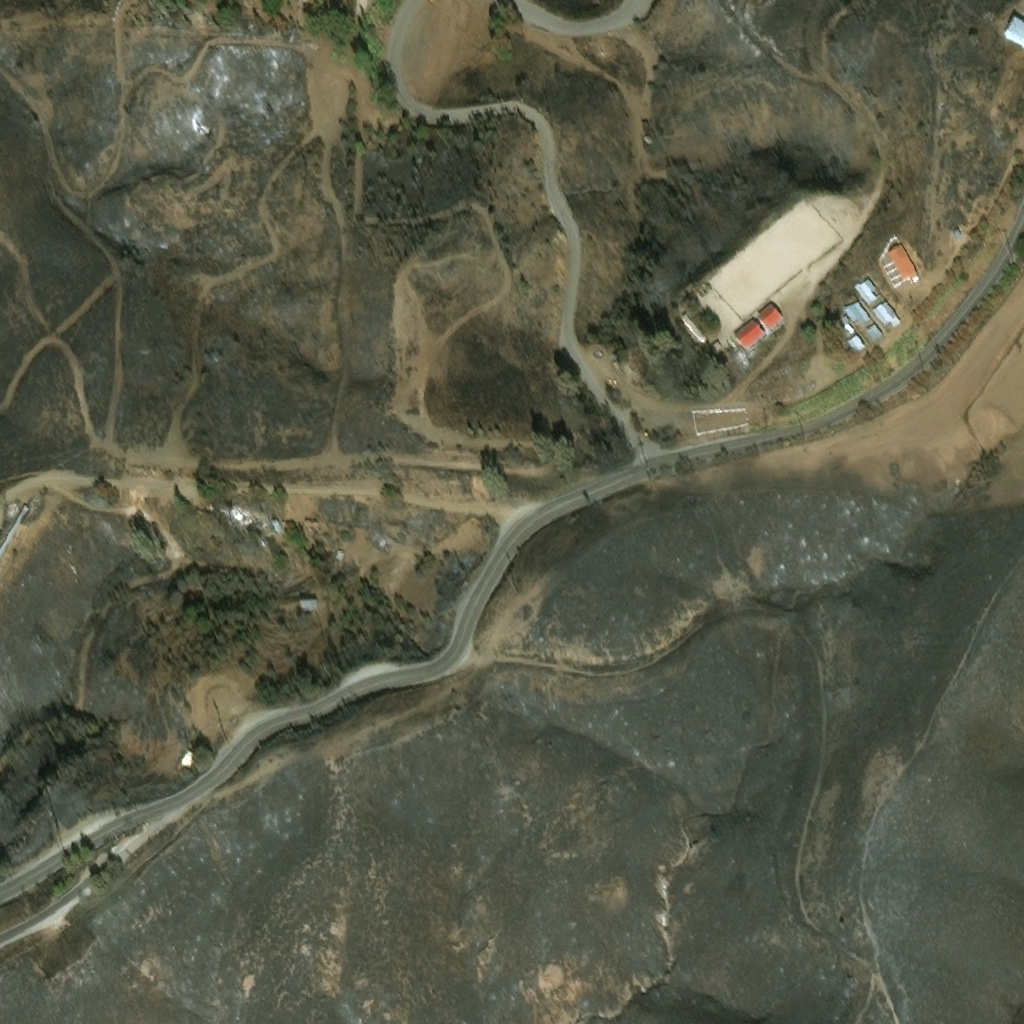0 no-damage: (887, 242, 919, 283), (682, 314, 717, 347), (734, 316, 764, 347), (871, 300, 902, 329), (754, 298, 782, 326), (852, 273, 880, 301), (845, 298, 870, 326), (1003, 13, 1023, 43), (847, 336, 867, 355), (864, 324, 883, 342), (838, 322, 854, 340), (297, 592, 313, 601), (330, 542, 340, 552), (839, 315, 849, 325)
2 major-damage: (271, 519, 278, 526)
3 destroyed: (0, 509, 30, 566), (226, 501, 268, 529), (178, 744, 190, 759), (31, 498, 45, 510), (28, 505, 40, 517), (302, 518, 310, 531), (310, 518, 317, 531), (10, 503, 19, 513), (638, 116, 646, 126), (11, 497, 19, 505), (180, 475, 189, 482), (281, 518, 290, 525), (202, 15, 210, 22), (955, 232, 961, 238)
